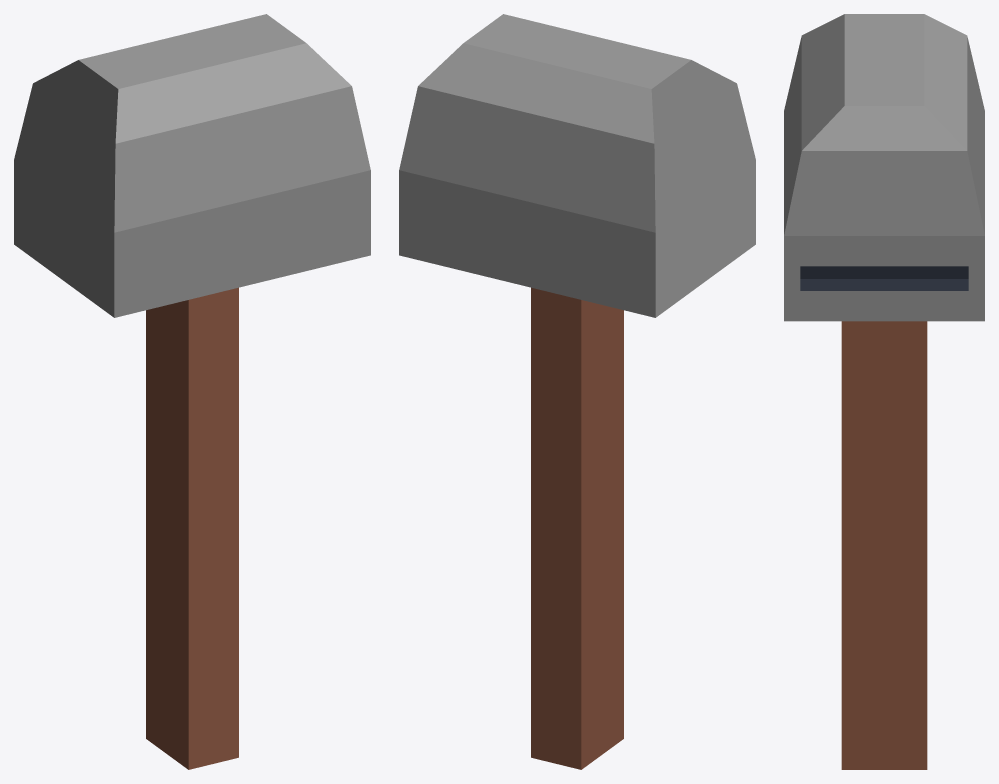
File: postbox.fbx
The picture shows the model from 3 angles, left to right: view 1: azimuth 30°, elevation 25°; view 2: azimuth 150°, elevation 25°; view 3: azimuth 270°, elevation 25°; orthographic projection.
Parts seen in each view (by area): view 1: Cube; view 2: Cube; view 3: Cube.
Part boxes in pixels (<box>): Cube: <box>14,14,370,769</box>; Cube: <box>399,14,755,769</box>; Cube: <box>784,14,984,769</box>.
Size of the model in its own units: 214 by 555 by 145.
